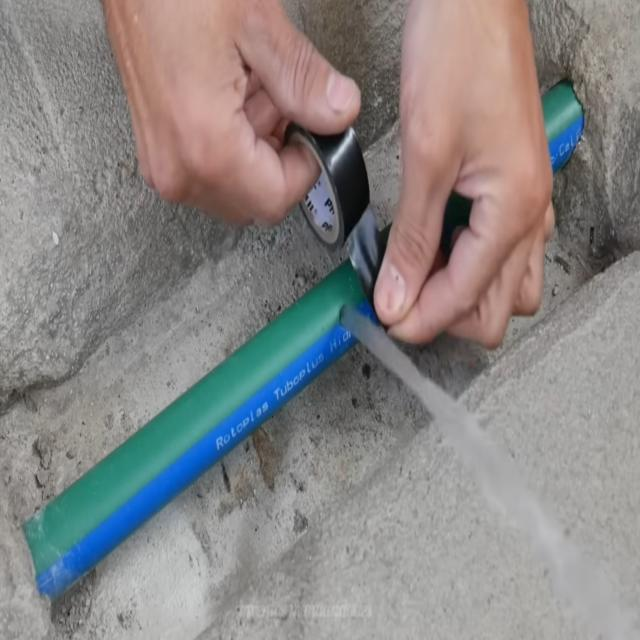leak: (340, 307, 640, 638)
